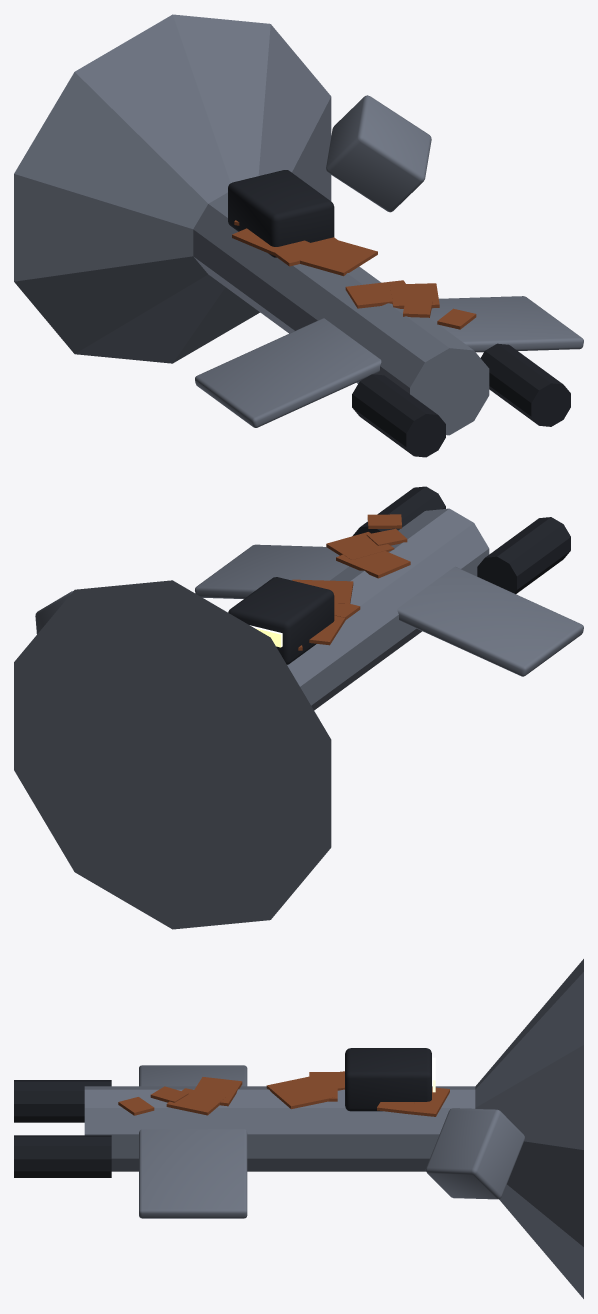
File: derelict_ship.glb
3 views of the same model, one above another, from view 1: azimuth 30°, elevation 25°; view 2: azimuth 150°, elevation 25°; view 3: azimuth 270°, elevation 25° (orthographic). The views are drawn at different scales.
Parts seen in each view (by area): view 1: Nose, Body, Wing-1, Chunk, Bridge, Wing1, Engine-1, Engine1, Scar8, Scar3, Scar1, Scar7 (+1 smaller); view 2: Nose, Body, Wing-1, Bridge, Wing1, Engine-1, Engine1, Scar3, Scar1, Scar8; view 3: Nose, Body, Wing1, Chunk, Bridge, Engine1, Engine-1, Wing-1, Scar8, Scar1, Scar3, Scar9 (+1 smaller).
Part boxes in pixels (left/top/right/bottom): Nose: left=14, top=14, right=331, bottom=363; Body: left=193, top=192, right=489, bottom=435; Wing-1: left=195, top=318, right=381, bottom=427; Chunk: left=326, top=95, right=431, bottom=212; Bridge: left=228, top=170, right=334, bottom=257; Wing1: left=430, top=296, right=583, bottom=352; Engine-1: left=352, top=374, right=445, bottom=457; Engine1: left=480, top=343, right=570, bottom=426; Scar8: left=299, top=239, right=377, bottom=276; Scar3: left=345, top=280, right=405, bottom=308; Scar1: left=390, top=283, right=439, bottom=308; Scar7: left=274, top=237, right=337, bottom=266; Nose: left=14, top=580, right=331, bottom=929; Body: left=287, top=508, right=489, bottom=710; Wing-1: left=397, top=566, right=583, bottom=676; Bridge: left=228, top=577, right=334, bottom=664; Wing1: left=195, top=544, right=348, bottom=598; Engine-1: left=477, top=517, right=570, bottom=593; Engine1: left=352, top=486, right=445, bottom=536; Scar3: left=336, top=551, right=410, bottom=578; Scar1: left=326, top=532, right=394, bottom=559; Scar8: left=292, top=579, right=353, bottom=603; Nose: left=475, top=959, right=583, bottom=1298; Body: left=84, top=1086, right=475, bottom=1171; Wing1: left=139, top=1129, right=247, bottom=1218; Chunk: left=425, top=1108, right=524, bottom=1199; Bridge: left=345, top=1048, right=431, bottom=1111; Engine1: left=14, top=1135, right=111, bottom=1177; Engine-1: left=14, top=1080, right=111, bottom=1122; Wing-1: left=139, top=1065, right=247, bottom=1086; Scar8: left=266, top=1076, right=334, bottom=1109; Scar1: left=166, top=1088, right=225, bottom=1115; Scar3: left=194, top=1077, right=242, bottom=1106; Scar9: left=408, top=1087, right=449, bottom=1116.
Bounding box in the file's own units: 34.84 × 32 × 52.5.
